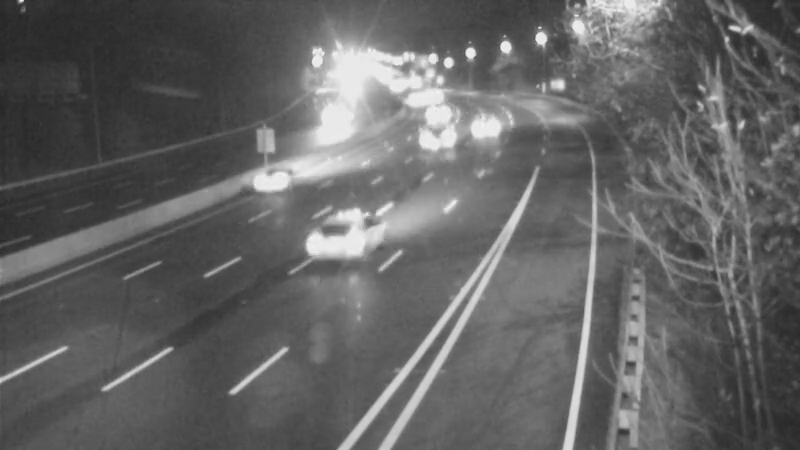vehicle: (235, 137, 315, 217), (301, 200, 381, 280), (408, 68, 458, 118), (389, 75, 439, 125), (412, 88, 462, 138), (453, 102, 503, 152), (413, 113, 463, 163), (306, 91, 356, 141)
